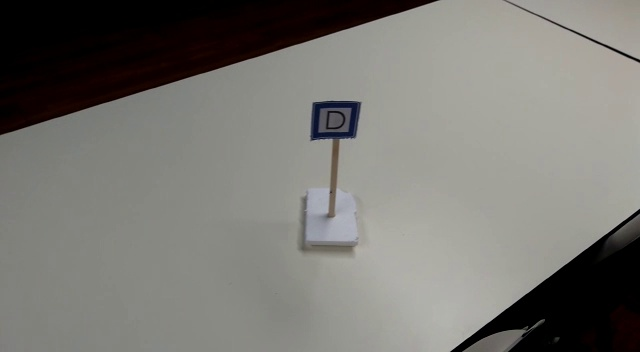durak: (313, 101, 355, 139)
